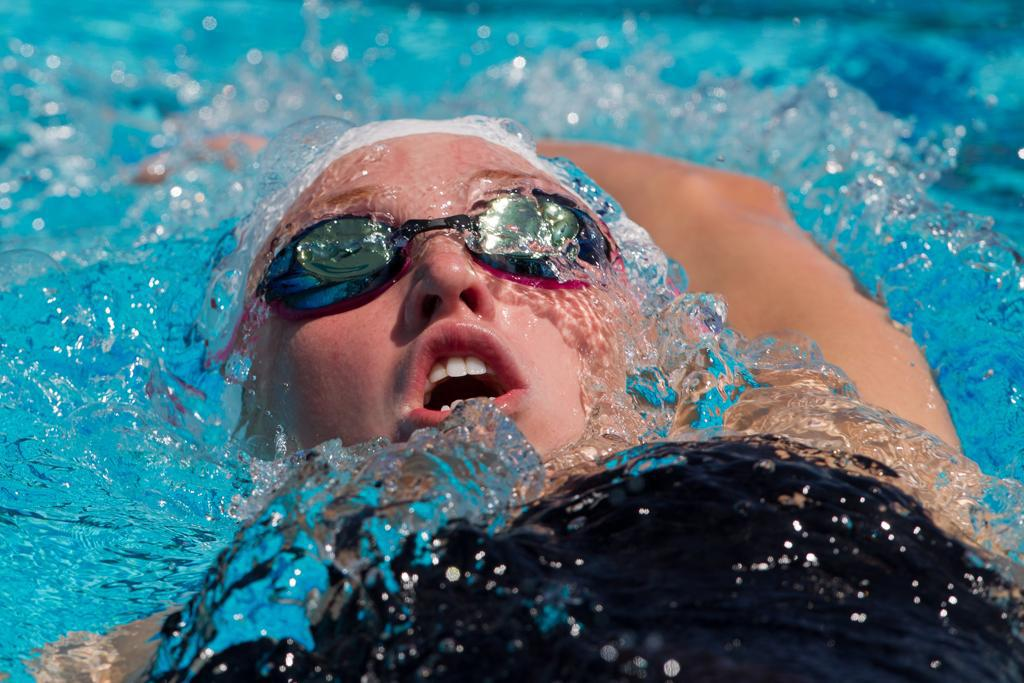face: (259, 151, 601, 463)
